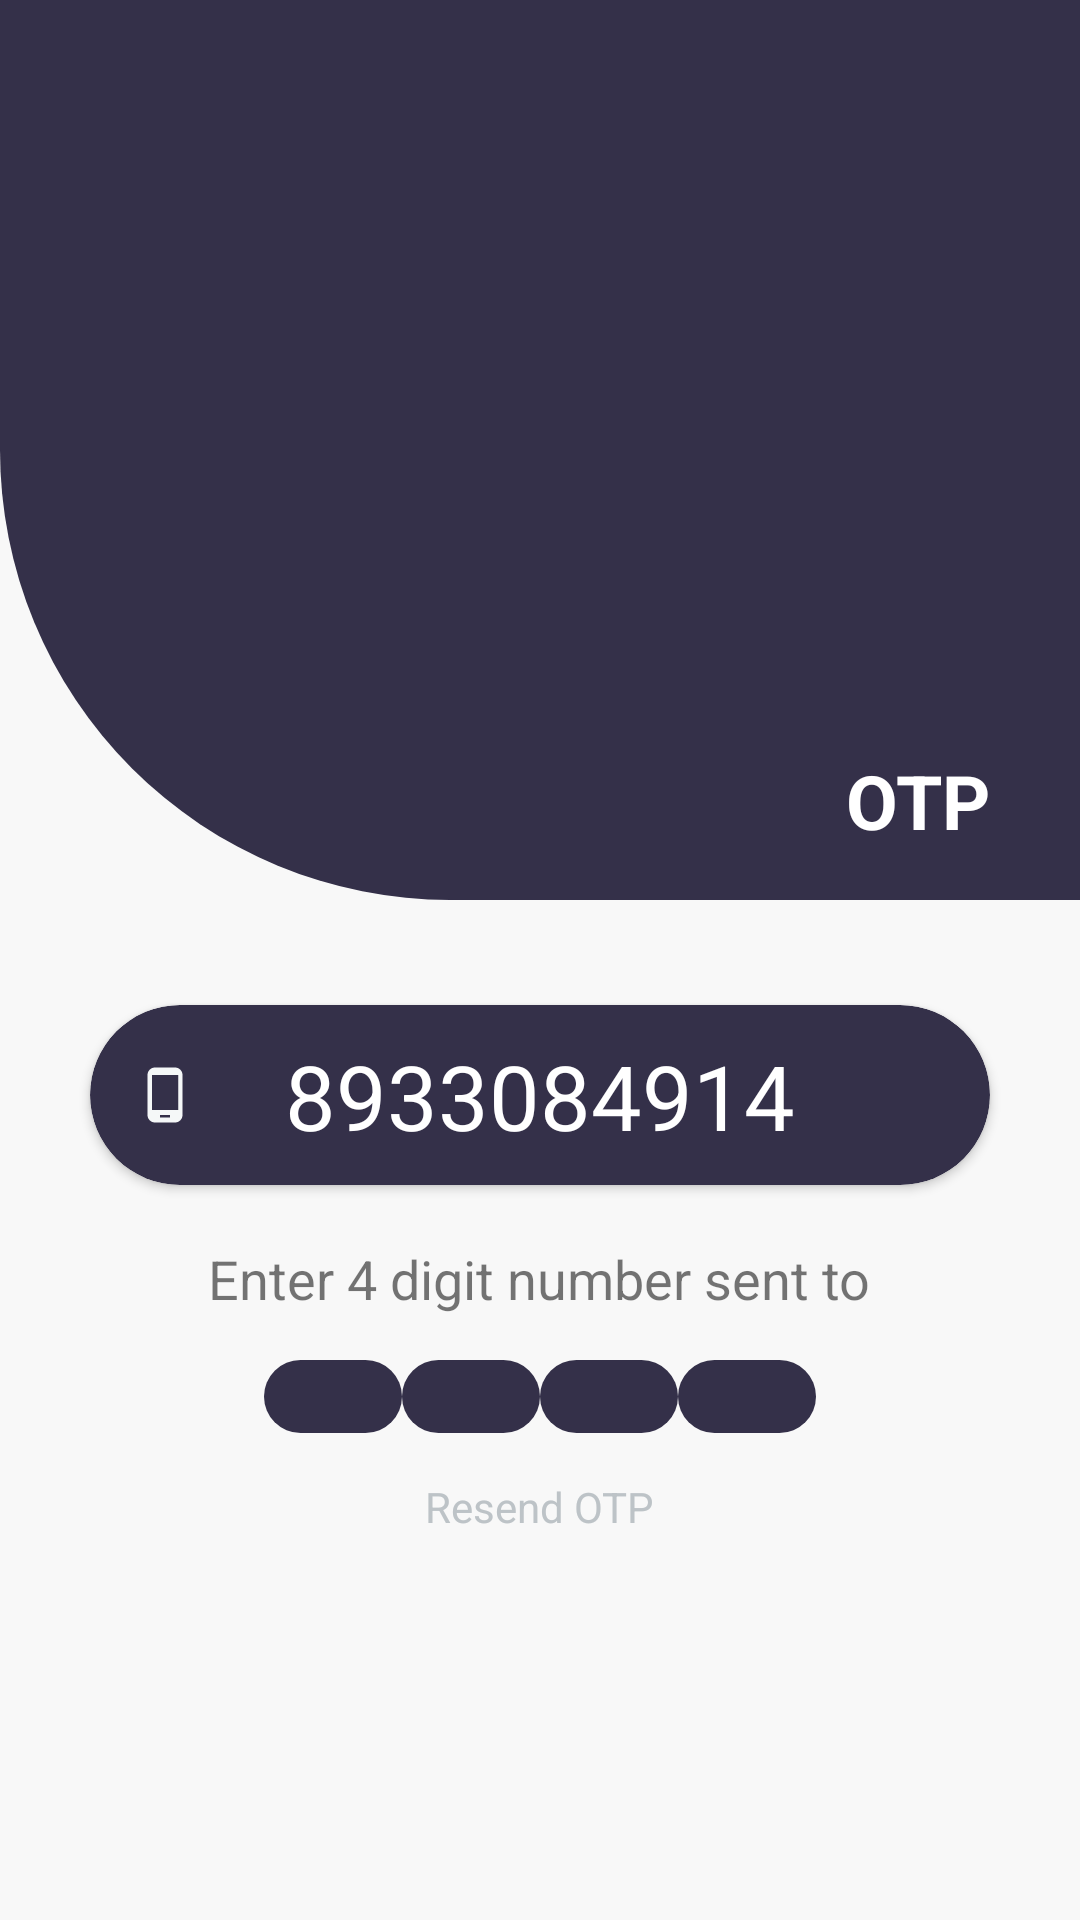

Named icons in this screenshot (1080×1920) and their centers, point (x, y):
phone android: point (165, 1095)
